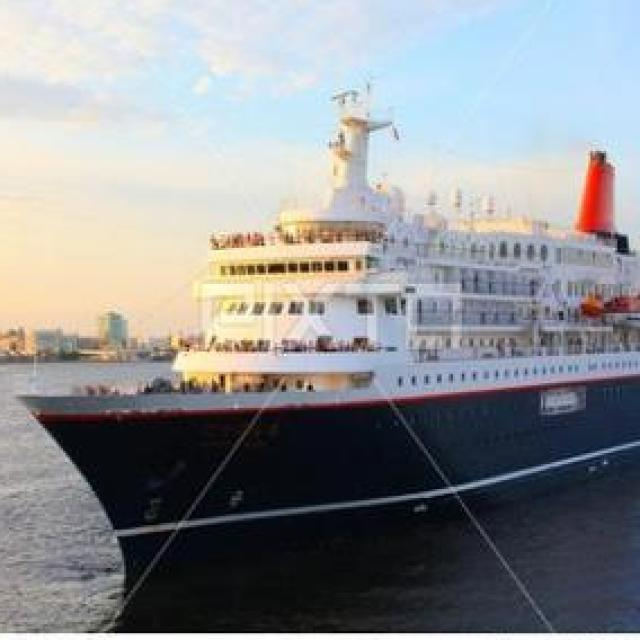passenger ship: (27, 106, 640, 570)
